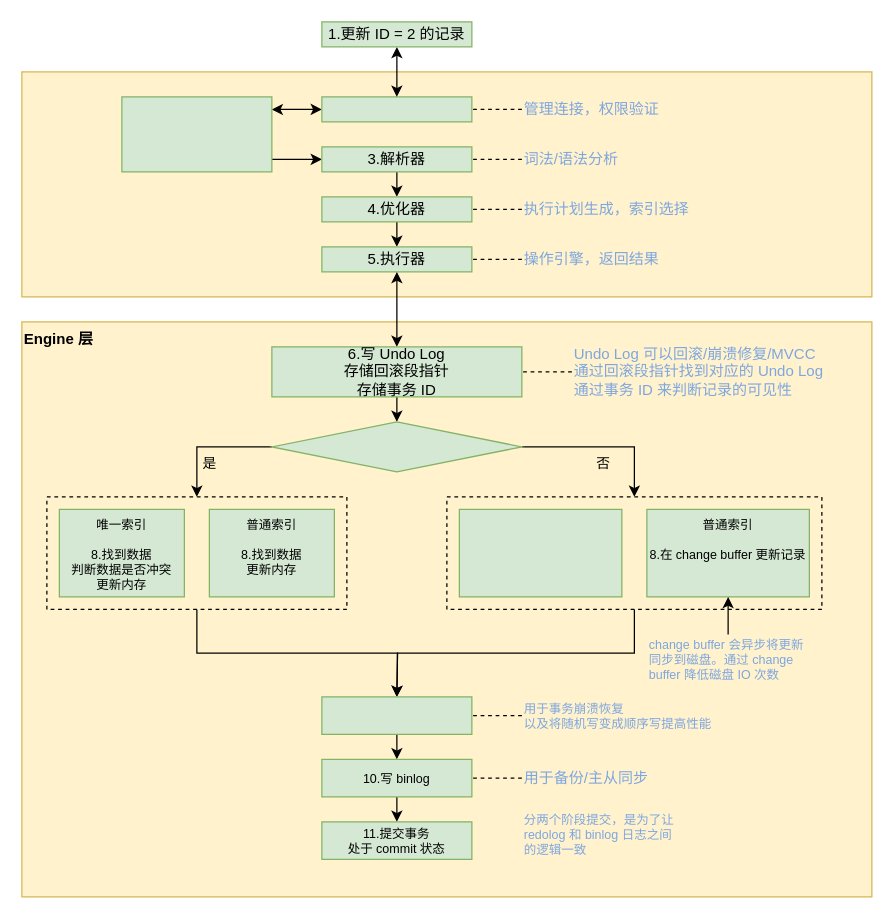
Image size: 894x919. Some labels were removed from this diagram. The box of each missing label's shape, as (x1, y1, x2, y2) in pixels:
2.5查询缓存 命中则直接返回结果: (121, 96, 272, 172)
2.连接器: (321, 96, 472, 122)
7.判断数据页是否在内存中: (271, 421, 522, 472)
9.写入 redolog 处于 prepare 阶段: (321, 696, 472, 734)
Server 层: (21, 71, 872, 297)
唯一索引 8.将数据页从磁盘读入内存 判断数据是否冲突 更新内存: (458, 508, 622, 597)
